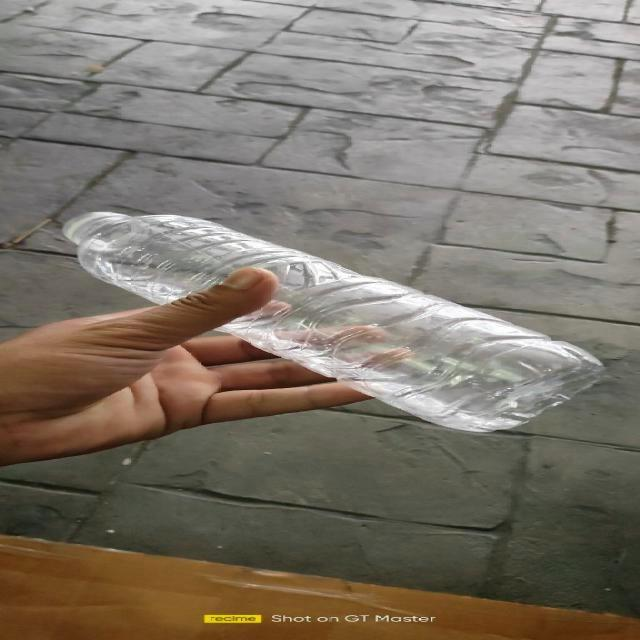bottle: (65, 210, 608, 432)
